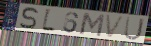6: (62, 11, 79, 33)
L: (41, 7, 57, 33)
M: (79, 11, 106, 38)
S: (18, 6, 39, 30)
U: (123, 16, 146, 41)
V: (105, 14, 126, 39)
